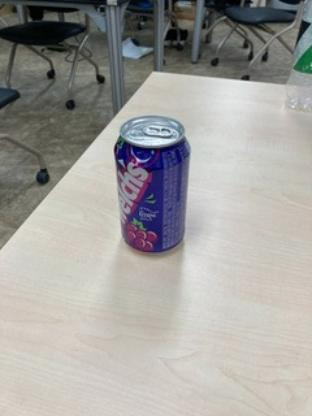Can: (112, 112, 192, 260)
